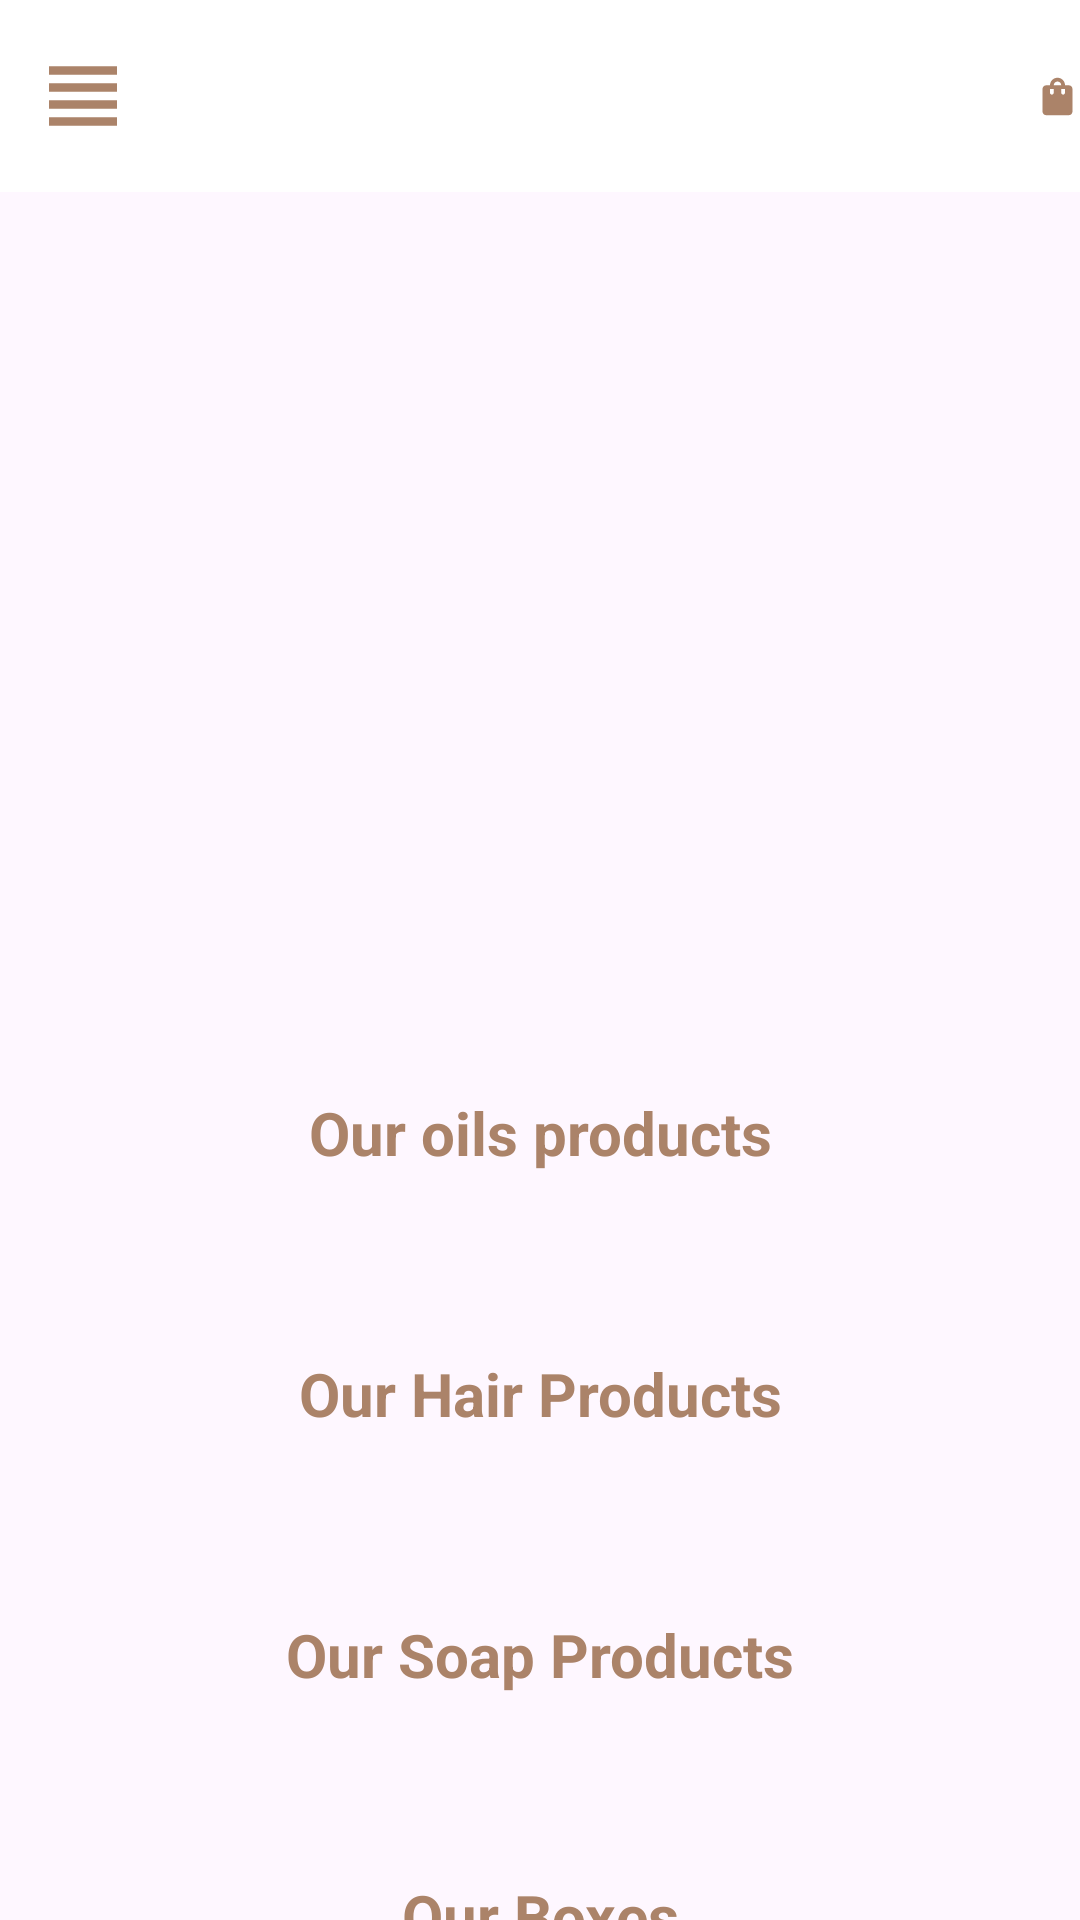

Where icons sit on this 1080×1920 app screen, as (x1, y1, x2, y2):
Shopping Cart Icon: (1042, 77, 1073, 116)
sidebar: (49, 66, 117, 126)
